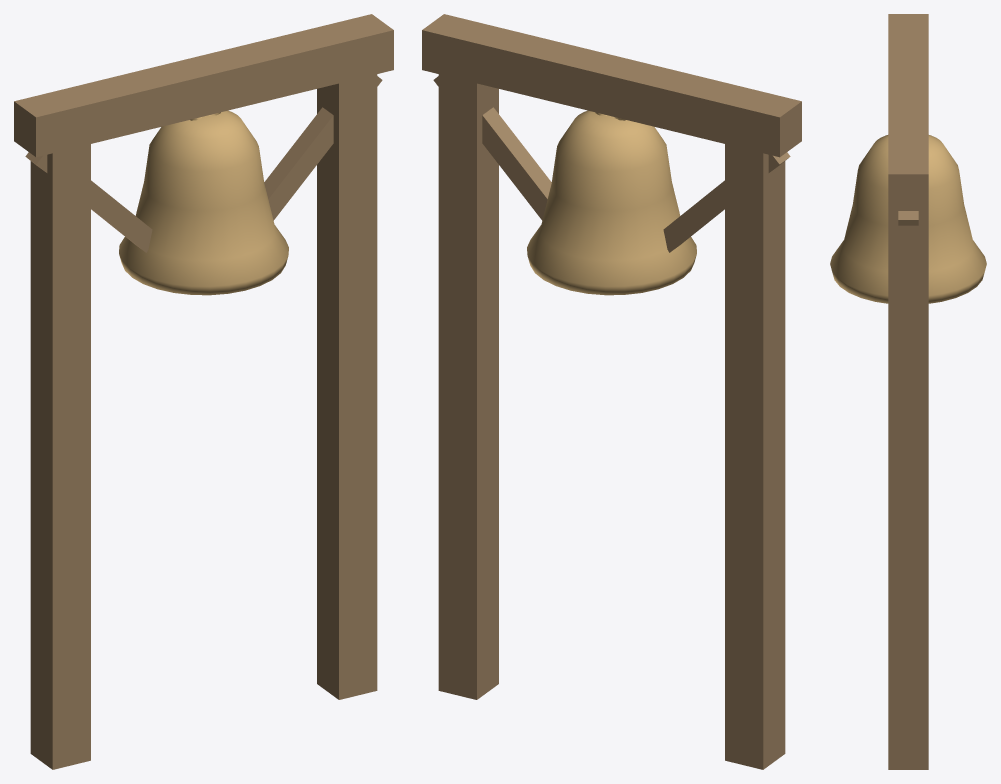
Rendered from bell.glb.
3 renders of one model, left to right at view 1: azimuth 30°, elevation 25°; view 2: azimuth 150°, elevation 25°; view 3: azimuth 270°, elevation 25°, orthographic. The views are drawn at different scales.
Visible parts, largest first — view 1: bell_frame, bell; view 2: bell_frame, bell; view 3: bell_frame, bell.
Boxes of the visible parts, bbox=[...] form: bell_frame: bbox=[14, 14, 393, 769]; bell: bbox=[119, 110, 288, 295]; bell_frame: bbox=[422, 14, 801, 769]; bell: bbox=[527, 110, 696, 295]; bell_frame: bbox=[888, 14, 928, 769]; bell: bbox=[830, 135, 986, 303].
Bounding box in the file's own units: 1.5 × 2.63 × 0.62.
